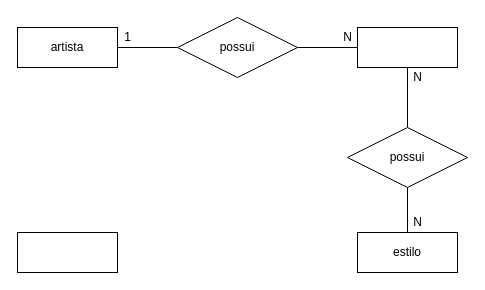
Image size: 485x290. Some labels were removed from this diagram. Each missing label, with the centre of its shape:
"usuário" goes at pixel 67 252.
"álbum" goes at pixel 407 47.
